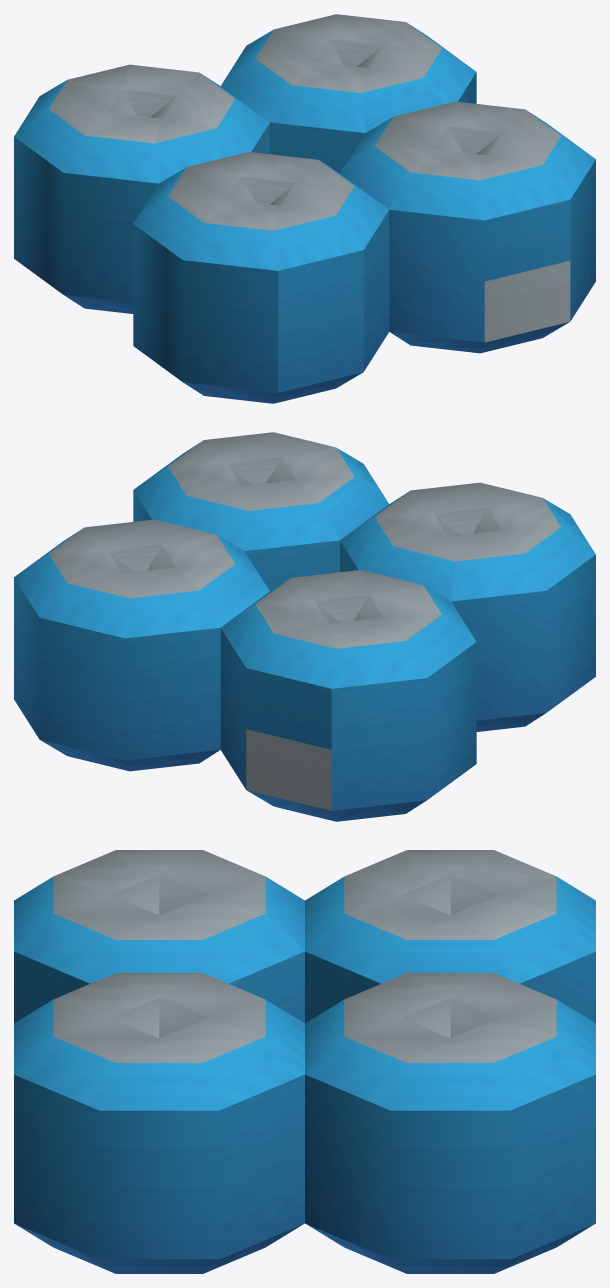
File: containers-c.glb
The picture shows the model from 3 angles, top to bottom: view 1: azimuth 30°, elevation 25°; view 2: azimuth 150°, elevation 25°; view 3: azimuth 270°, elevation 25°; orthographic projection. The views are drawn at different scales.
Parts seen in each view (by area): view 1: containers_C; view 2: containers_C; view 3: containers_C.
Boxes of the visible parts, x1,y1,x2,y2 form: containers_C: [14, 14, 595, 403]; containers_C: [14, 432, 595, 821]; containers_C: [14, 850, 595, 1273].
Size of the model in its own units: 0.5 by 0.2 by 0.5.
1 material, 1 textured.
